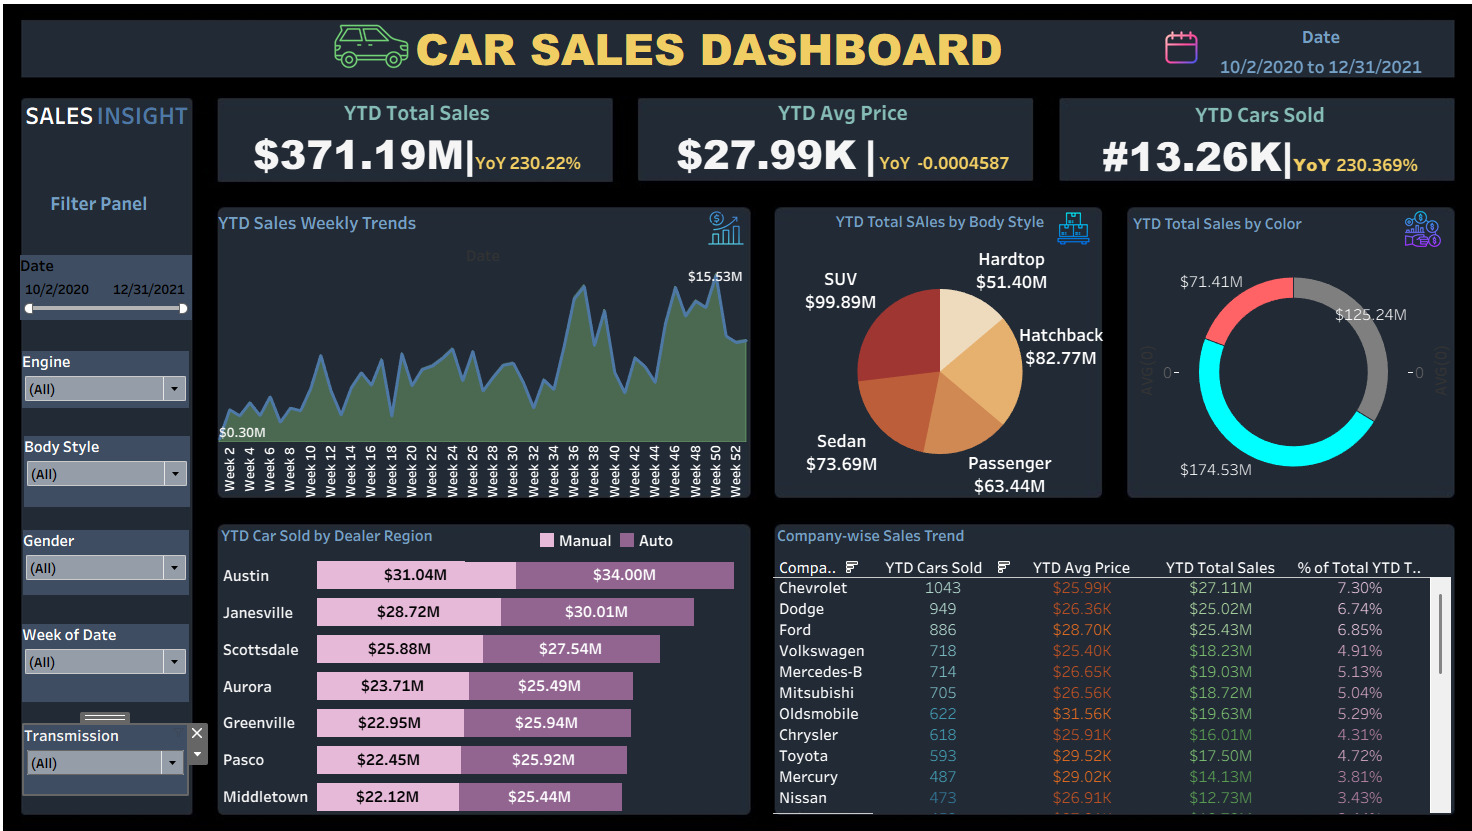

Layout of this report page (visuals, bound fields, positions):
{"tool":"tableau","page":{"name":"Dashboard 1","canvas":[1000,1000],"units":"permille","ordinal":0},"visuals":[{"type":"image","param":"Image/Car Sales Background.jpg","box":[4.8,9.4,990.3,981.2]},{"type":"image","param":"Image/Car Icon.png","box":[251.7,11.8,57.9,103.4]},{"type":"text","box":[280,31.7,404.4,68.2]},{"type":"worksheet","title":"Sheet 9","mark":"Automatic","box":[776.1,34.1,150.9,62.3]},{"type":"image","param":"Image/calendar.png","box":[756.2,43.5,31.4,42.3]},{"type":"worksheet","title":"YTD Total Sales","mark":"Automatic","box":[186.5,124.6,238.4,99.9]},{"type":"text","box":[67.6,125.7,102.6,37.6]},{"type":"worksheet","title":"YTD Avg Price","mark":"Automatic","box":[440.6,125.7,244.4,98.7]},{"type":"worksheet","title":"YTD Cars Sold","mark":"Automatic","box":[693.4,125.7,242,103.4]},{"type":"text","box":[82.7,230.3,62.8,35.2]},{"type":"worksheet","title":"YTD Sales Weekly Trend","mark":"Area","rows":["Calculation_1675439741894658","Calculation_1675439741894658"],"cols":["Date"],"box":[183.5,251.5,324.1,344.3]},{"type":"worksheet","title":"YTD Total SAles by Body Style","mark":"Pie","box":[522.6,252.6,198,344.3]},{"type":"image","param":"Image/Sales Icon.png","box":[480.4,253.8,24.1,45.8]},{"type":"worksheet","title":"YTD Total Sales by Color","mark":"Pie","rows":["Calculation_1951142598438917","Calculation_1951142598459399"],"box":[735.7,255,198.6,340.8]},{"type":"image","param":"Image/Cars Sold Icon.png","box":[901.6,256.2,24.1,43.5]},{"type":"image","param":"Image/Avg Price Icon.png","box":[691.6,257.3,24.1,40]},{"type":"filter","title":"YTD Sales Weekly Trend","param":"[federated.1x7t30u0e00g7z1b5uyic0mqdcm7].[none:Date:qk]","box":[66.4,309.1,103.8,76.4]},{"type":"filter","title":"YTD Sales Weekly Trend","param":"[federated.1x7t30u0e00g7z1b5uyic0mqdcm7].[none:Engine:nk]","box":[67.6,421.9,100.8,67]},{"type":"filter","title":"YTD Sales Weekly Trend","param":"[federated.1x7t30u0e00g7z1b5uyic0mqdcm7].[none:Body Style:nk]","box":[68.8,521.7,100.2,83.4]},{"type":"worksheet","title":"YTD Car Sold by Dealer Region","mark":"Automatic","rows":["Dealer_Region"],"cols":["Calculation_1675439741894658"],"box":[185.3,621.6,324.7,345.5]},{"type":"worksheet","title":"Company-wise Sales Trend","mark":"Automatic","rows":["Company"],"box":[520.8,621.6,409.2,344.3]},{"type":"filter","title":"YTD Sales Weekly Trend","param":"[federated.1x7t30u0e00g7z1b5uyic0mqdcm7].[none:Gender:nk]","box":[68.2,632.2,100.2,76.4]},{"type":"legend","title":"YTD Car Sold by Dealer Region","param":"[federated.1x7t30u0e00g7z1b5uyic0mqdcm7].[none:Transmission:nk]","box":[334.9,632.2,164.8,37.6]},{"type":"filter","title":"YTD Sales Weekly Trend","param":"[federated.1x7t30u0e00g7z1b5uyic0mqdcm7].[wk:Date:ok]","box":[67.6,742.7,100.8,91.7]},{"type":"filter","title":"YTD Sales Weekly Trend","param":"[federated.1x7t30u0e00g7z1b5uyic0mqdcm7].[none:Transmission:nk]","box":[68.8,861.3,98.4,81.1]}]}

Visuals, with their boxes on the dashboard's canvas, which has no fixed pixel size, in thousandths of its width and height (x1, y1, x2, y2). These are canvas units, not pixel positions in the 1472x831 screenshot, which may show the page scaled, cropped or inside an application window:
image: [5, 9, 995, 991]
image: [252, 12, 310, 115]
text: [280, 32, 684, 100]
"Sheet 9" worksheet: [776, 34, 927, 96]
image: [756, 44, 788, 86]
"YTD Total Sales" worksheet: [186, 125, 425, 224]
text: [68, 126, 170, 163]
"YTD Avg Price" worksheet: [441, 126, 685, 224]
"YTD Cars Sold" worksheet: [693, 126, 935, 229]
text: [83, 230, 146, 266]
"YTD Sales Weekly Trend" worksheet (Area marks): [184, 252, 508, 596]
"YTD Total SAles by Body Style" worksheet (Pie marks): [523, 253, 721, 597]
image: [480, 254, 504, 300]
"YTD Total Sales by Color" worksheet (Pie marks): [736, 255, 934, 596]
image: [902, 256, 926, 300]
image: [692, 257, 716, 297]
"YTD Sales Weekly Trend" filter: [66, 309, 170, 386]
"YTD Sales Weekly Trend" filter: [68, 422, 168, 489]
"YTD Sales Weekly Trend" filter: [69, 522, 169, 605]
"YTD Car Sold by Dealer Region" worksheet: [185, 622, 510, 967]
"Company-wise Sales Trend" worksheet: [521, 622, 930, 966]
"YTD Sales Weekly Trend" filter: [68, 632, 168, 709]
"YTD Car Sold by Dealer Region" legend: [335, 632, 500, 670]
"YTD Sales Weekly Trend" filter: [68, 743, 168, 834]
"YTD Sales Weekly Trend" filter: [69, 861, 167, 942]
